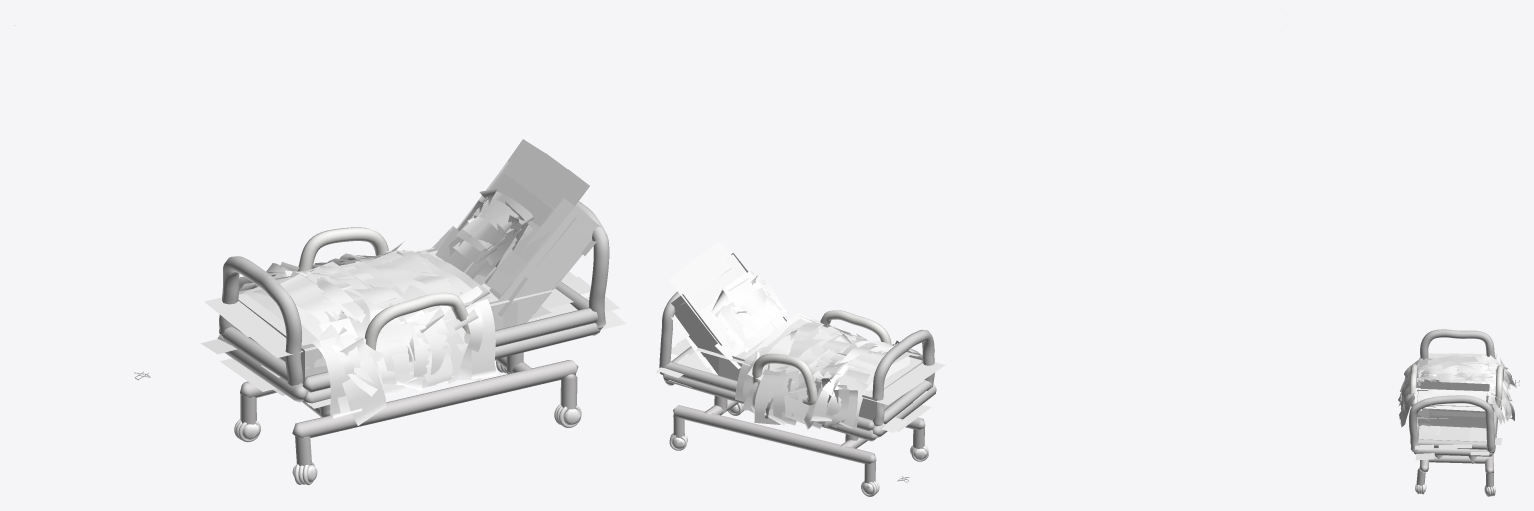
File: bedFinal.fbx
3 renders of one model, left to right at view 1: azimuth 30°, elevation 25°; view 2: azimuth 150°, elevation 25°; view 3: azimuth 270°, elevation 25°, orthographic. The views are drawn at different scales.
Visible parts, largest first — view 1: brush_Charcoal_g0_b0, brush_Icing_g0_b0, brush_Lacewing_g0_b0, brush_Wire (Lit)_g0_b0, brush_SmoothHull_g0_b0; view 2: brush_Charcoal_g0_b0, brush_Icing_g0_b0, brush_Lacewing_g0_b0; view 3: brush_Icing_g0_b0, brush_Lacewing_g0_b0, brush_Charcoal_g0_b0.
Boxes of the visible parts, x1,y1,x2,y2 form: brush_Charcoal_g0_b0: (239,188,534,425); brush_Icing_g0_b0: (134,201,609,465); brush_Lacewing_g0_b0: (14,25,626,408); brush_Wire (Lit)_g0_b0: (234,362,581,485); brush_SmoothHull_g0_b0: (242,361,580,482); brush_Charcoal_g0_b0: (711,271,922,429); brush_Icing_g0_b0: (659,291,936,483); brush_Lacewing_g0_b0: (655,14,1286,432); brush_Icing_g0_b0: (1409,329,1519,488); brush_Lacewing_g0_b0: (1315,14,1502,460); brush_Charcoal_g0_b0: (1398,353,1517,427).
Bounding box in the file's own units: 4.43 × 3.8 × 2.21.
5 materials, 2 textured.
